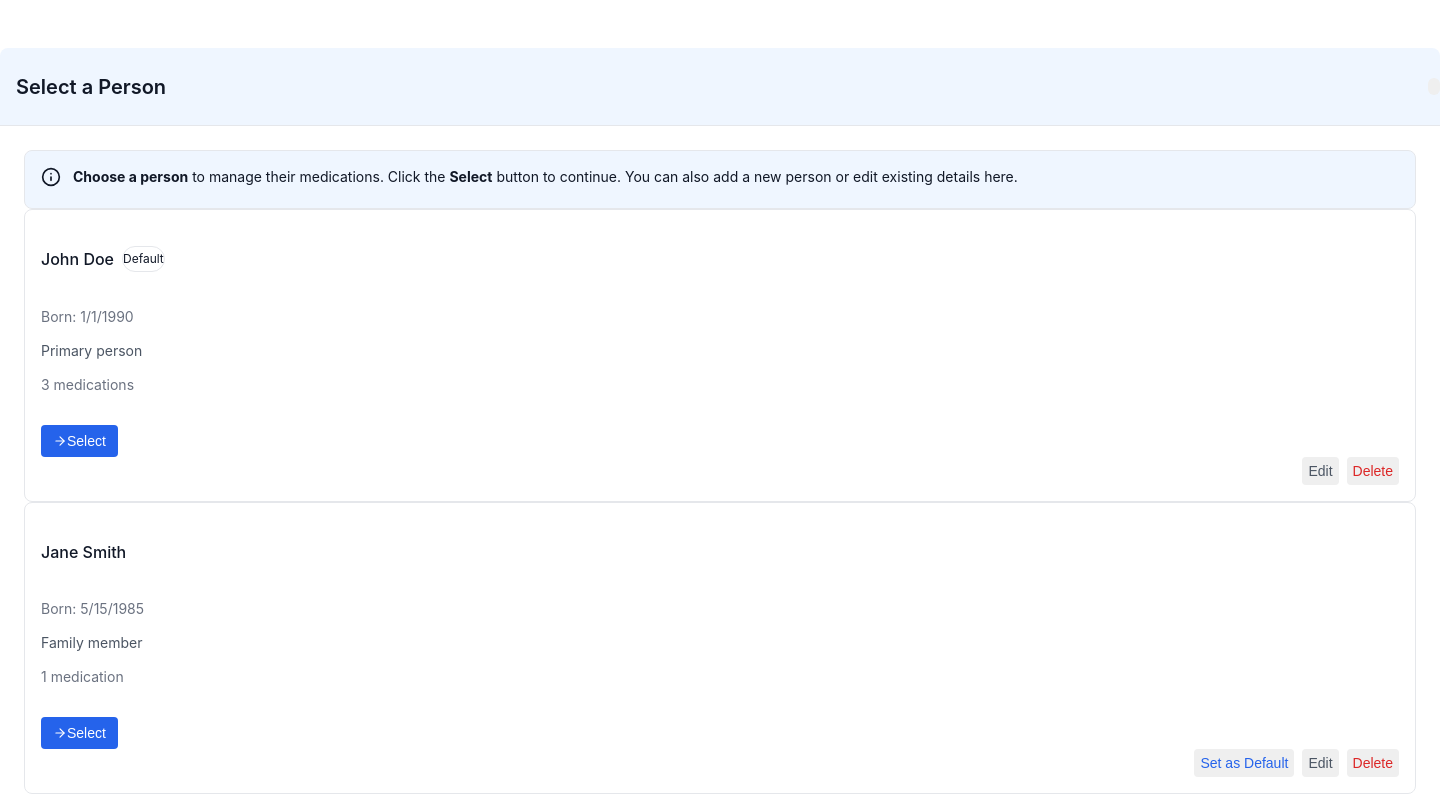
Test: PersonManager › shows delete confirmation when Delete clicked
Expected: the heading "Jane Smith" is shown, x1=41 y1=540 x2=126 y2=564
Click the 2nd button "Delete" at (1373, 763), box x1=1346 y1=749 x2=1399 y2=777
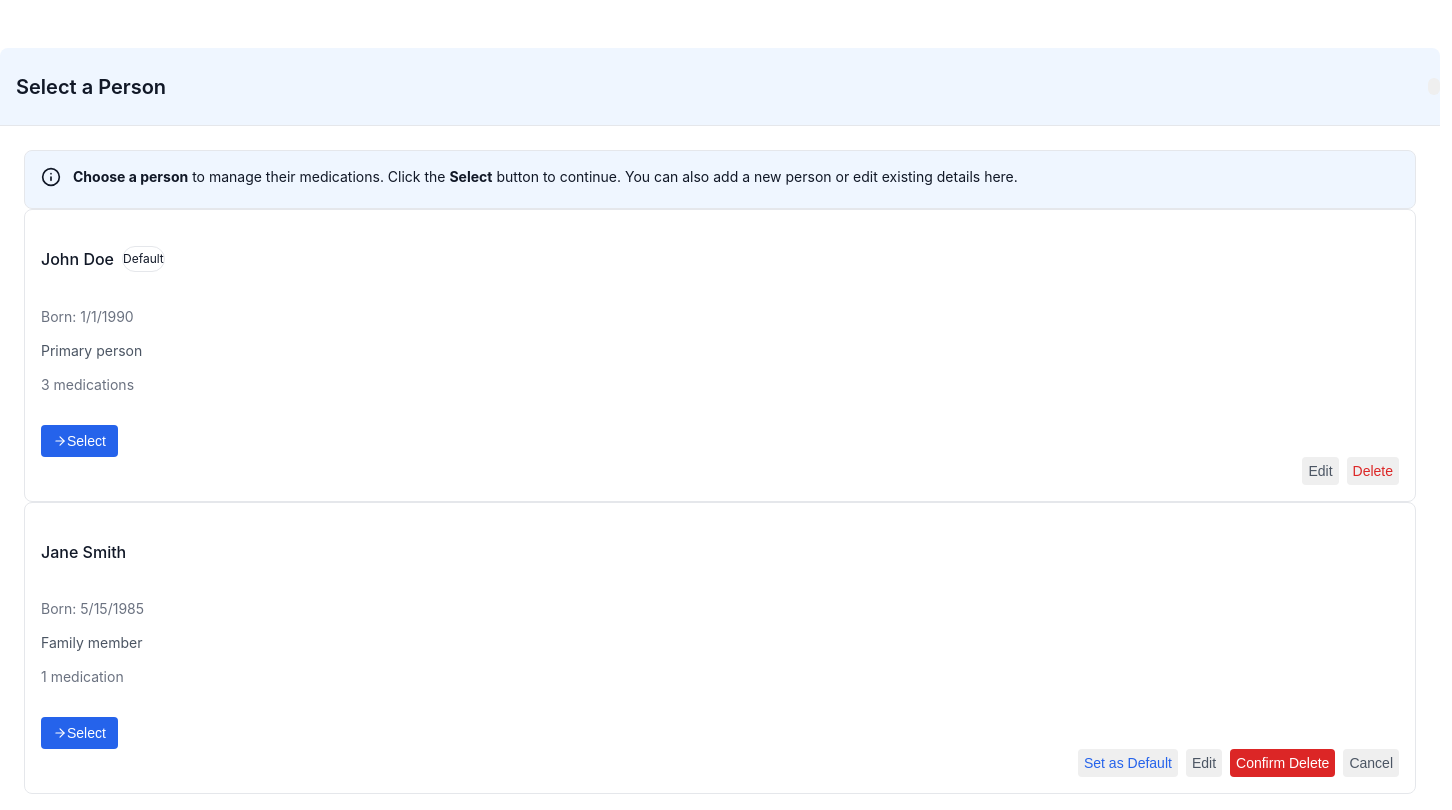
Result: the button "Confirm Delete" is shown at x1=1230 y1=749 x2=1335 y2=777
Result: the button "Cancel" is shown at x1=1343 y1=749 x2=1399 y2=777
